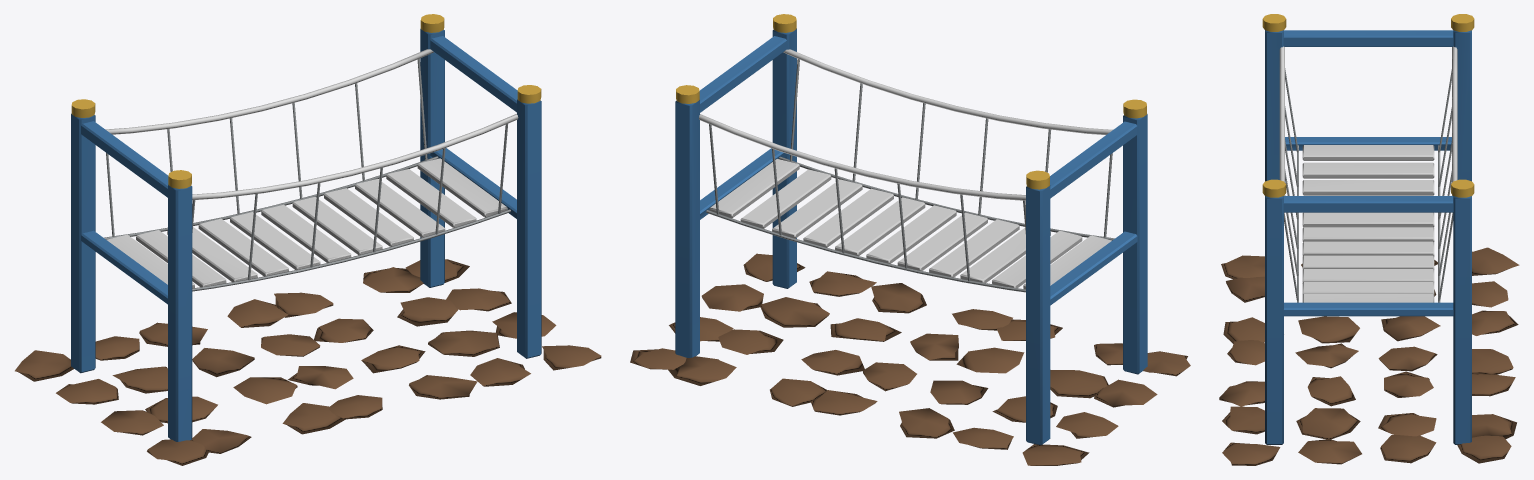
The model's file is WobbleBridge.fbx.
3 views of the same model, side by side, from view 1: azimuth 30°, elevation 25°; view 2: azimuth 150°, elevation 25°; view 3: azimuth 270°, elevation 25° (orthographic). The views are drawn at different scales.
Parts seen in each view (by area): view 1: WobbleBridge; view 2: WobbleBridge; view 3: WobbleBridge.
Part boxes in pixels (x1,y1,x2,y2): WobbleBridge: (15, 14, 601, 465); WobbleBridge: (630, 14, 1190, 465); WobbleBridge: (1219, 14, 1519, 465).
Size of the model in its own units: 3.27 by 1.81 by 1.92.
